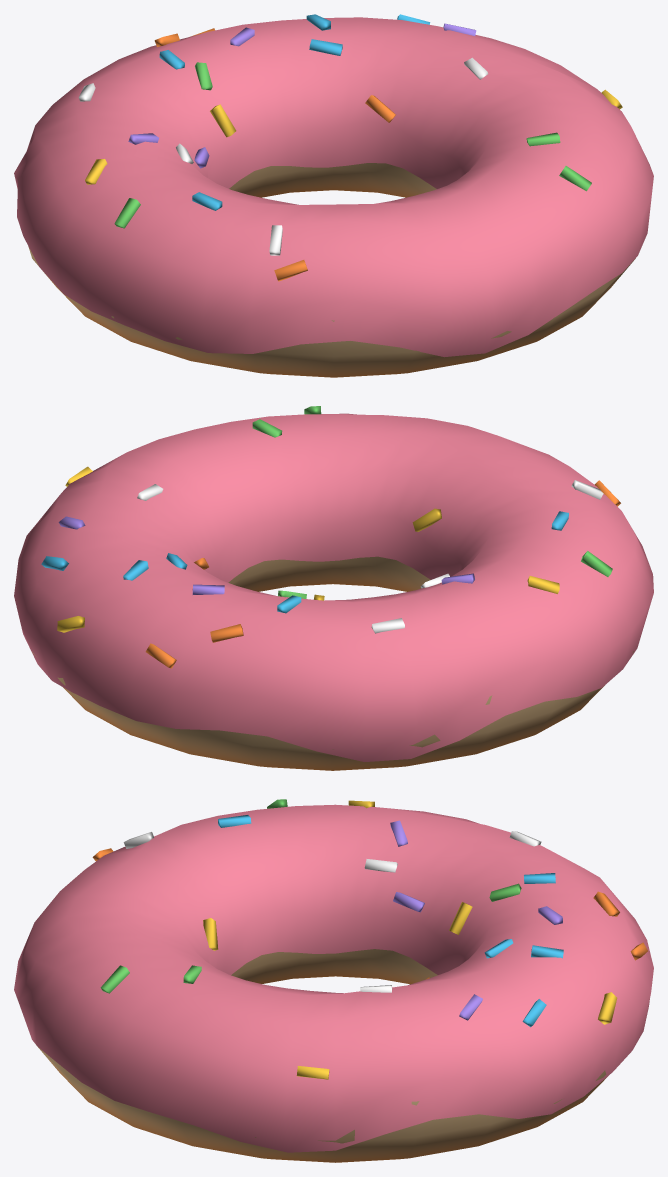
File: donut.glb
3 renders of one model, top to bottom at view 1: azimuth 30°, elevation 25°; view 2: azimuth 150°, elevation 25°; view 3: azimuth 270°, elevation 25°, orthographic.
Visible parts, largest first — view 1: donut-icing, donut-dough, donut-sprinkles; view 2: donut-icing, donut-dough, donut-sprinkles; view 3: donut-icing, donut-dough, donut-sprinkles.
Boxes of the visible parts, <box> form: donut-icing: <box>14,17,653,357</box>; donut-dough: <box>28,163,635,377</box>; donut-sprinkles: <box>78,14,622,281</box>; donut-icing: <box>14,413,653,761</box>; donut-dough: <box>32,556,633,770</box>; donut-sprinkles: <box>41,406,620,668</box>; donut-icing: <box>14,804,653,1152</box>; donut-dough: <box>36,949,607,1162</box>; donut-sprinkles: <box>92,799,647,1079</box>.
Size of the model in its own units: 1 by 0.2696 by 0.998.
